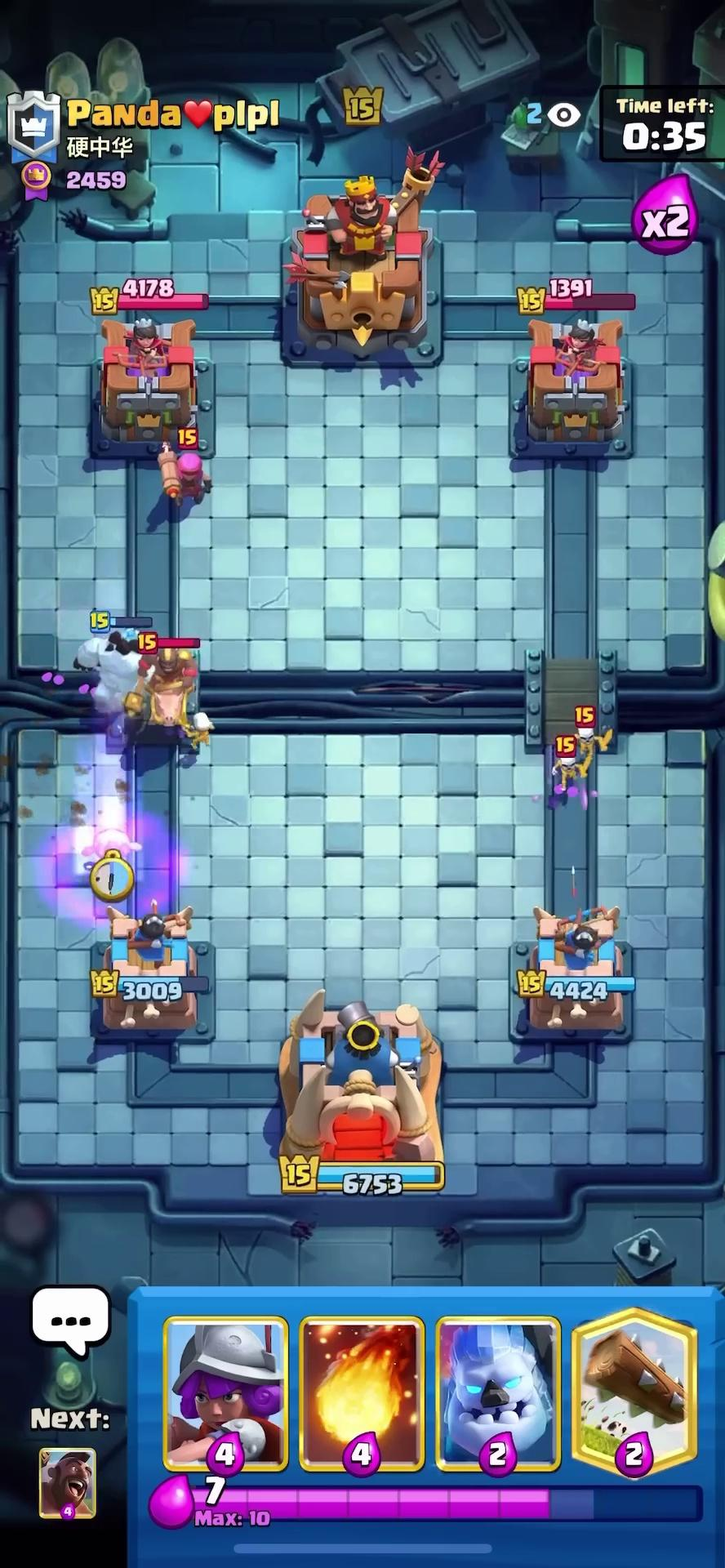evo_ice_spirit: (84, 813, 151, 868)
ice_golem: (80, 612, 159, 704)
skeletons: (539, 702, 610, 778), (173, 700, 222, 757)
